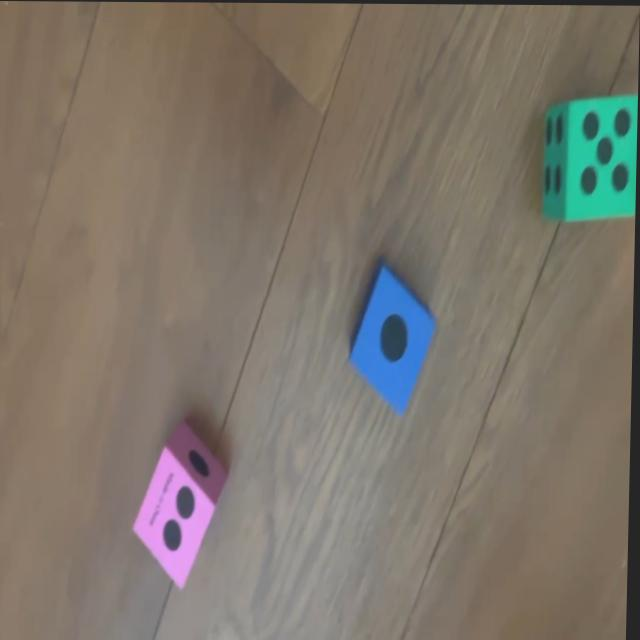blue_block: (352, 263, 436, 409)
